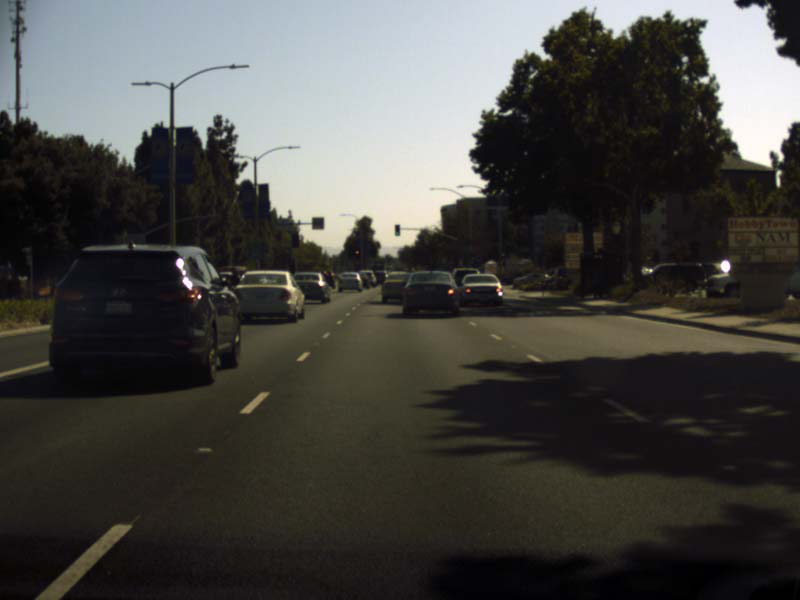Green: (501, 247, 508, 259), (394, 224, 400, 236)
Red: (354, 250, 360, 260)
